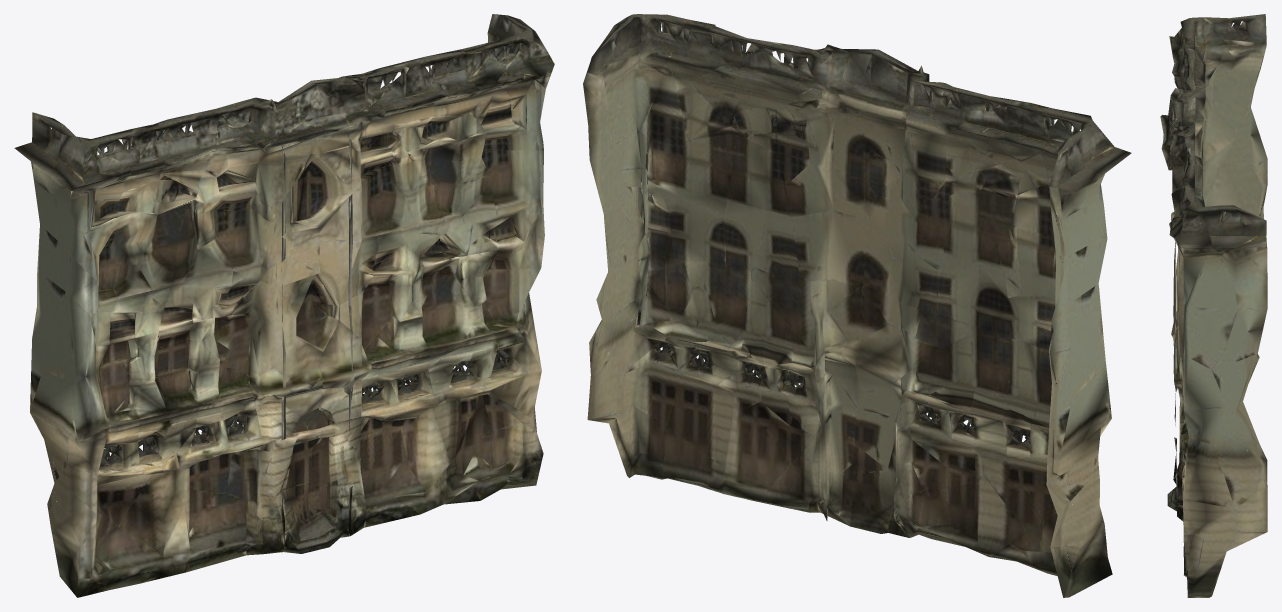
The model's file is bld_shoprow2.glb.
3 views of the same model, side by side, from view 1: azimuth 30°, elevation 25°; view 2: azimuth 150°, elevation 25°; view 3: azimuth 270°, elevation 25° (orthographic). The views are drawn at different scales.
Visible parts, largest first — view 1: bld_shoprow2; view 2: bld_shoprow2; view 3: bld_shoprow2.
Boxes of the visible parts, box(x1,y1,x2,y2) form: bld_shoprow2: box(14, 14, 554, 597); bld_shoprow2: box(583, 14, 1131, 597); bld_shoprow2: box(1160, 14, 1267, 597).
Size of the model in its own units: 1.89 by 1.68 by 0.4078.
Materials: 1 (1 with a texture image).
